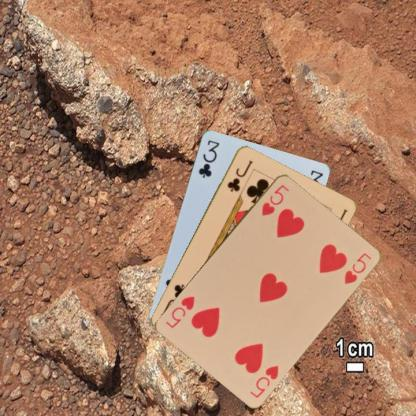3c: (195, 137, 221, 178)
5h: (247, 362, 280, 400), (258, 182, 290, 216)
Jc: (224, 157, 254, 193)
